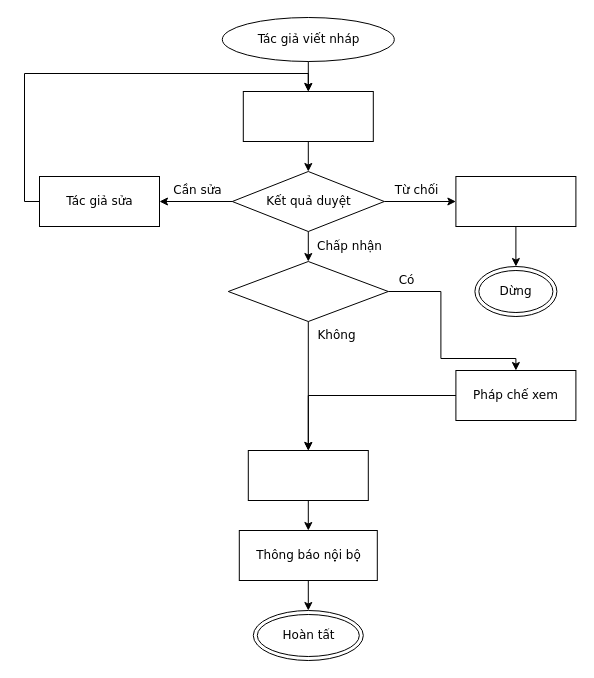
The diagram is 594 pixels wide and 678 high, and some of its shapes have lost their labels. The shapes that lost their labels are listed below. From the top down, each one's centre as x and y in pixels, then its label:
At point 307,116: "Gửi người duyệt".
At point 515,201: "Lưu trữ".
At point 307,291: "Cần pháp chế?".
At point 307,475: "Xuất bản".
